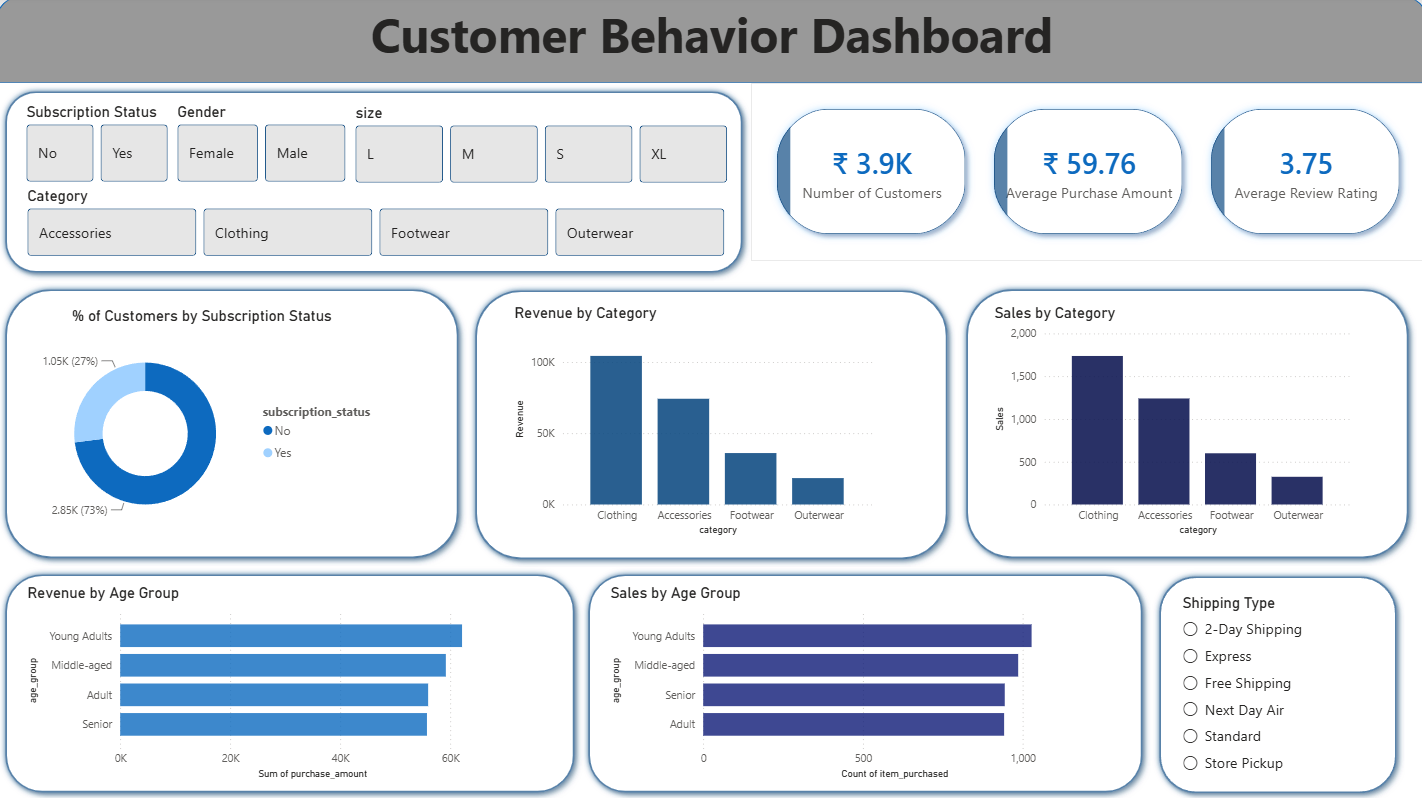

This screenshot's page, from the dashboard's own definition file:
{"tool":"powerbi","page":{"name":"Page 1","canvas":[1600,900],"ordinal":0},"visuals":[{"type":"cardVisual","fields":{"Data":["customer_behaviour customer.Number of Customers","customer_behaviour customer.Average Purchase Amount","customer_behaviour customer.Average Review Rating"]},"box":[843.8,96.3,756.6,198.7],"z":0},{"type":"shape","box":[0,0,1600.4,96.3],"z":1000},{"type":"textbox","box":[0,0,1600.4,96.3],"z":2000},{"type":"shape","box":[0,317.9,525.8,319.5],"z":3000},{"type":"donutChart","title":"% of Customers by Subscription Status","fields":{"Category":["customer_behaviour customer.subscription_status"],"Y":["CountNonNull(customer_behaviour customer.customer_id)"]},"box":[29,347,400.5,264.4],"z":4000},{"type":"shape","box":[525.8,319.5,547.2,319.5],"z":5000},{"type":"shape","box":[1076.1,317.9,513.6,319.5],"z":6000},{"type":"clusteredColumnChart","title":"Revenue by Category","fields":{"Y":["Sum(customer_behaviour customer.purchase_amount)"],"Category":["customer_behaviour customer.category"]},"box":[574.7,343.9,411.2,264.4],"z":7000},{"type":"clusteredColumnChart","title":"Sales by Category","fields":{"Y":["CountNonNull(customer_behaviour customer.customer_id)"],"Category":["customer_behaviour customer.category"]},"box":[1111.2,343.9,409.6,264.4],"z":8000},{"type":"shape","box":[0,96.3,843.8,221.6],"z":9000},{"type":"advancedSlicerVisual","fields":{"Values":["customer_behaviour customer.subscription_status"]},"box":[28.3,119,168.6,93.5],"z":10000},{"type":"advancedSlicerVisual","fields":{"Values":["customer_behaviour customer.gender"]},"box":[196.9,119,198.3,93.5],"z":11000},{"type":"advancedSlicerVisual","fields":{"Values":["customer_behaviour customer.category"]},"box":[29,212.5,793.3,82.5],"z":12000},{"type":"shape","box":[0,637.4,655.7,262.9],"z":12002},{"type":"clusteredBarChart","title":"Revenue by Age Group","fields":{"Y":["Sum(customer_behaviour customer.purchase_amount)"],"Category":["customer_behaviour customer.age_group"]},"box":[29,657.3,554.9,223.2],"z":12003},{"type":"shape","box":[652.7,637.4,638.9,262.9],"z":12004},{"type":"clusteredBarChart","title":"Sales by Age Group","fields":{"Y":["CountNonNull(customer_behaviour customer.item_purchased)"],"Category":["customer_behaviour customer.age_group"]},"box":[681.7,657.3,557.9,223.2],"z":12005},{"type":"shape","box":[1291.6,638.9,284.3,261.4],"z":12006},{"type":"listSlicer","fields":{"Values":["customer_behaviour customer.shipping_type"]},"box":[1322.2,668,223.2,212.5],"z":12007},{"type":"advancedSlicerVisual","fields":{"Values":["customer_behaviour customer.size"]},"box":[395.9,119.2,426.5,93.2],"z":12008}]}

Visuals, with their boxes in screenshot pixels (x1, y1, x2, y2), scaled from the page's 1600x900 canvas onto the 1422x798 screenshot:
cardVisual - customer_behaviour customer.Number of Customers x customer_behaviour customer.Average Purchase Amount: bbox(750, 85, 1421, 262)
shape: bbox(0, 0, 1421, 85)
textbox: bbox(0, 0, 1421, 85)
shape: bbox(0, 282, 467, 565)
"% of Customers by Subscription Status" donutChart: bbox(26, 308, 382, 542)
shape: bbox(467, 283, 954, 567)
shape: bbox(956, 282, 1413, 565)
"Revenue by Category" clusteredColumnChart: bbox(511, 305, 876, 539)
"Sales by Category" clusteredColumnChart: bbox(988, 305, 1352, 539)
shape: bbox(0, 85, 750, 282)
advancedSlicerVisual - customer_behaviour customer.subscription_status: bbox(25, 106, 175, 188)
advancedSlicerVisual - customer_behaviour customer.gender: bbox(175, 106, 351, 188)
advancedSlicerVisual - customer_behaviour customer.category: bbox(26, 188, 731, 262)
shape: bbox(0, 565, 583, 797)
"Revenue by Age Group" clusteredBarChart: bbox(26, 583, 519, 781)
shape: bbox(580, 565, 1148, 797)
"Sales by Age Group" clusteredBarChart: bbox(606, 583, 1102, 781)
shape: bbox(1148, 566, 1401, 797)
listSlicer - customer_behaviour customer.shipping_type: bbox(1175, 592, 1373, 781)
advancedSlicerVisual - customer_behaviour customer.size: bbox(352, 106, 731, 188)
